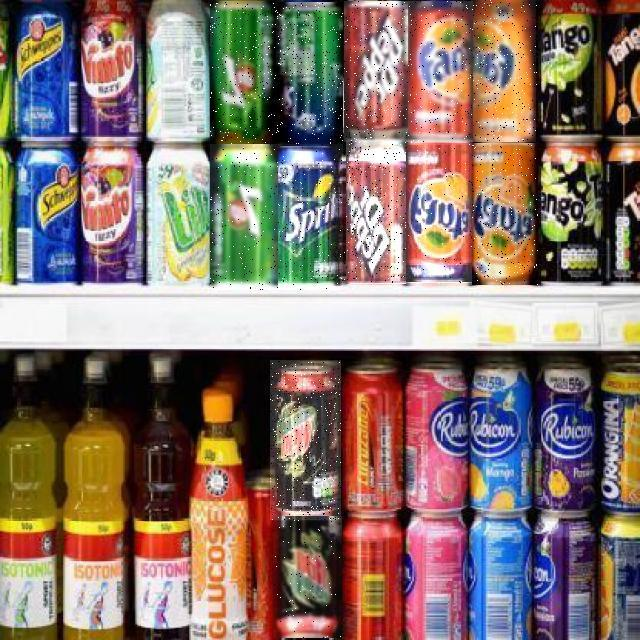Drinks: (270, 360, 341, 520), (278, 144, 346, 290), (211, 144, 279, 290), (275, 2, 343, 146), (210, 1, 276, 144), (473, 143, 539, 285), (406, 144, 472, 286), (472, 1, 538, 143), (407, 2, 473, 144), (344, 2, 408, 144), (346, 142, 406, 284), (273, 516, 342, 638)
